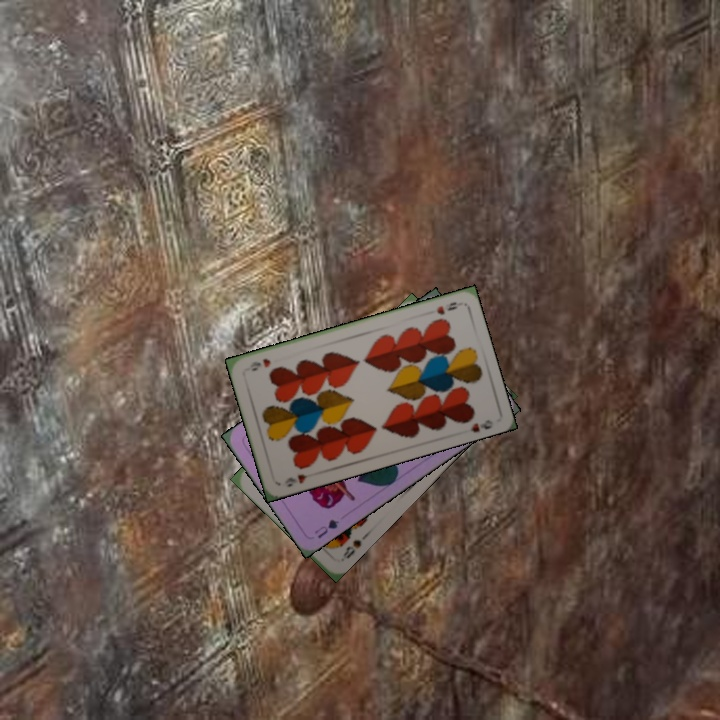GU: (310, 515, 342, 541)
H9: (281, 469, 317, 489), (433, 298, 463, 317)
S8: (338, 535, 364, 562)
